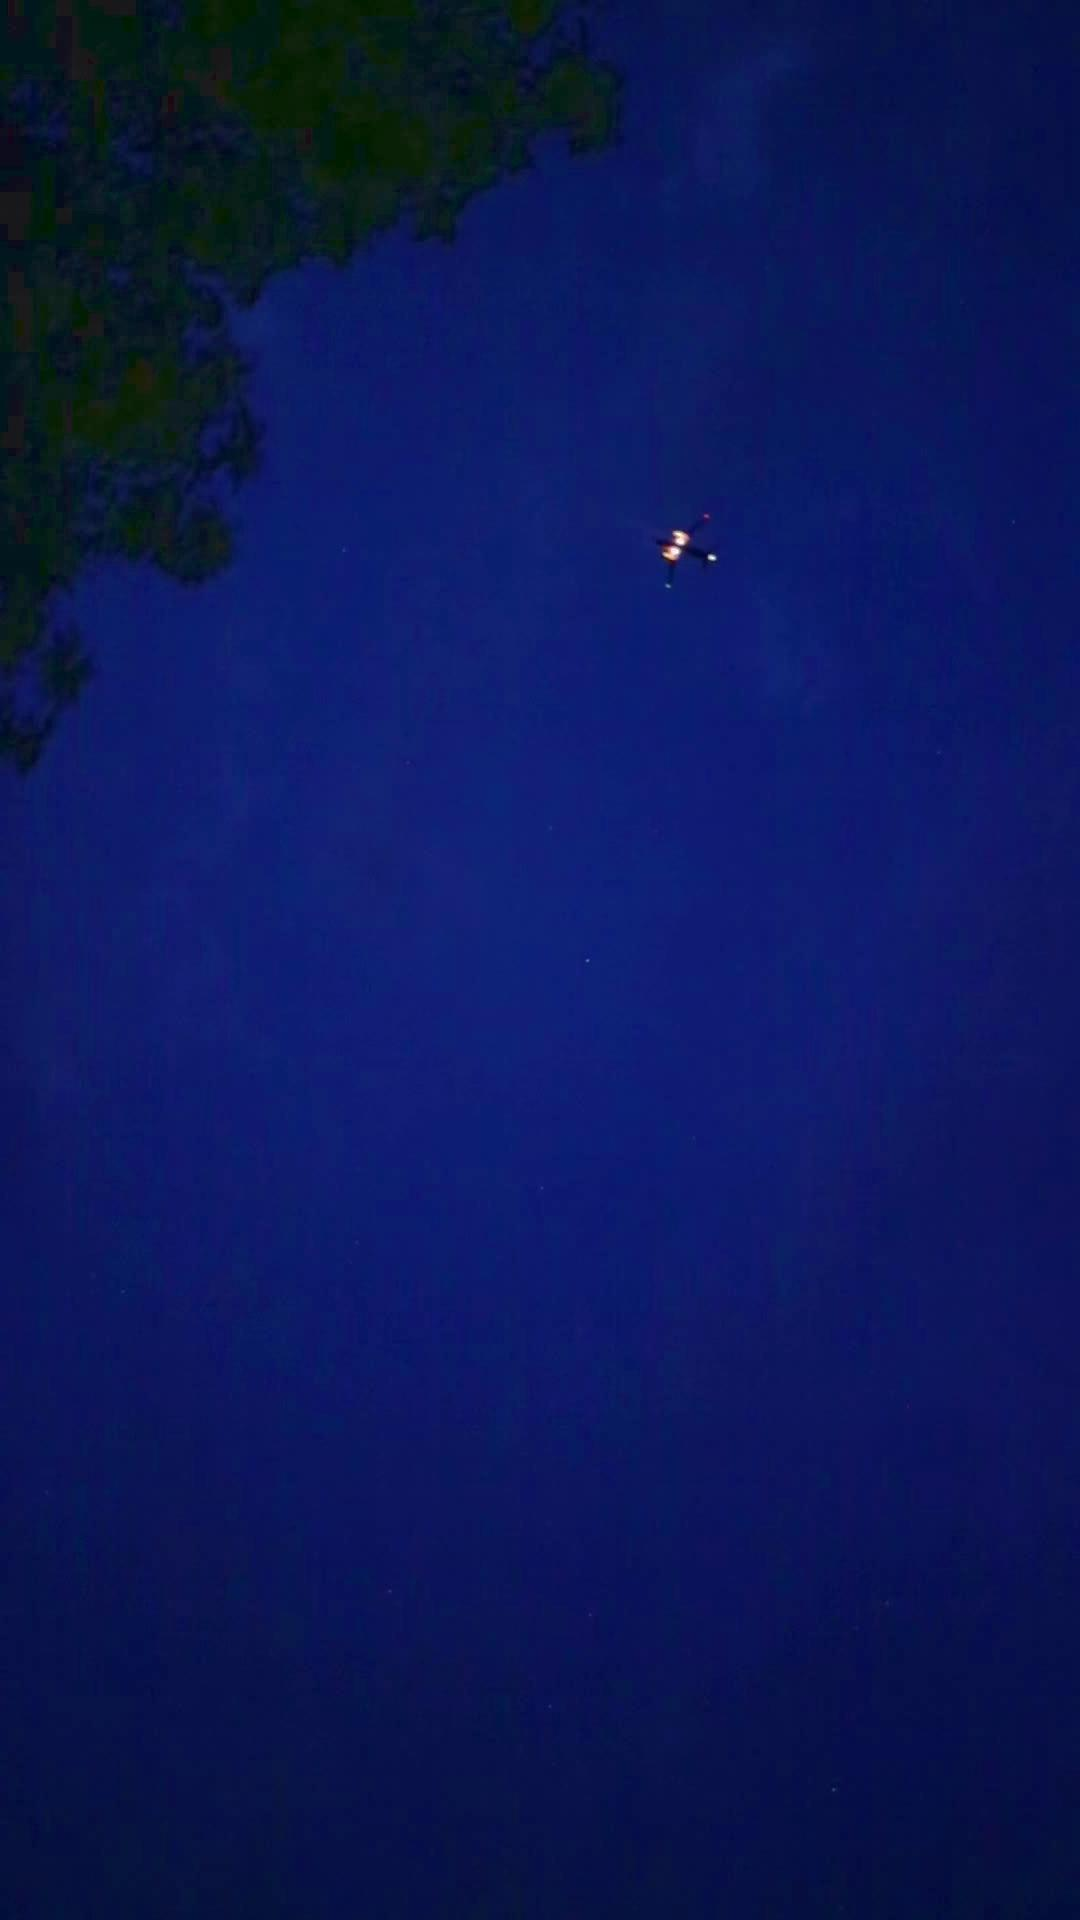Plane: (638, 500, 735, 592)
